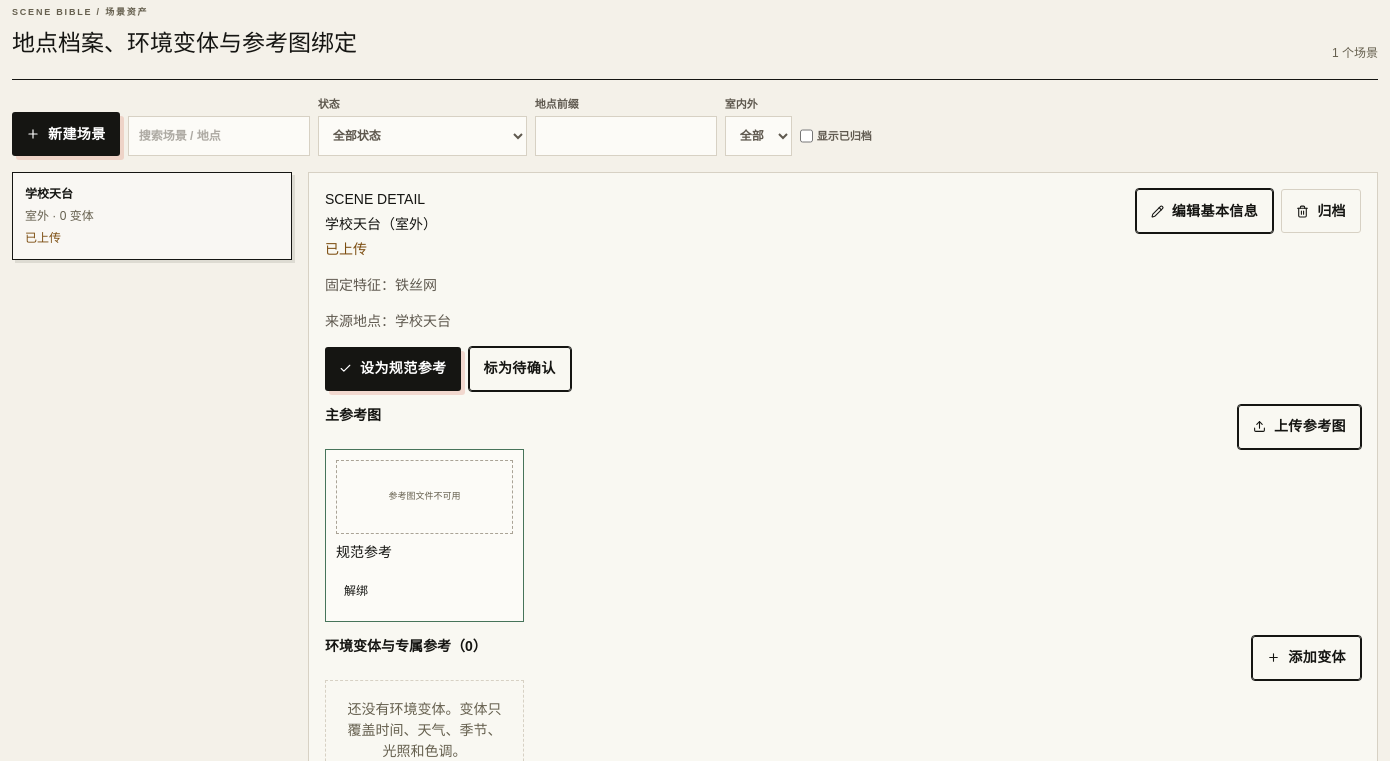
Scenario: SceneWorkspace › 409 乐观锁展示后端语义提示而不是静默覆盖（#156）
Click the button "设为规范参考" at (393, 369), box [325, 347, 460, 391]
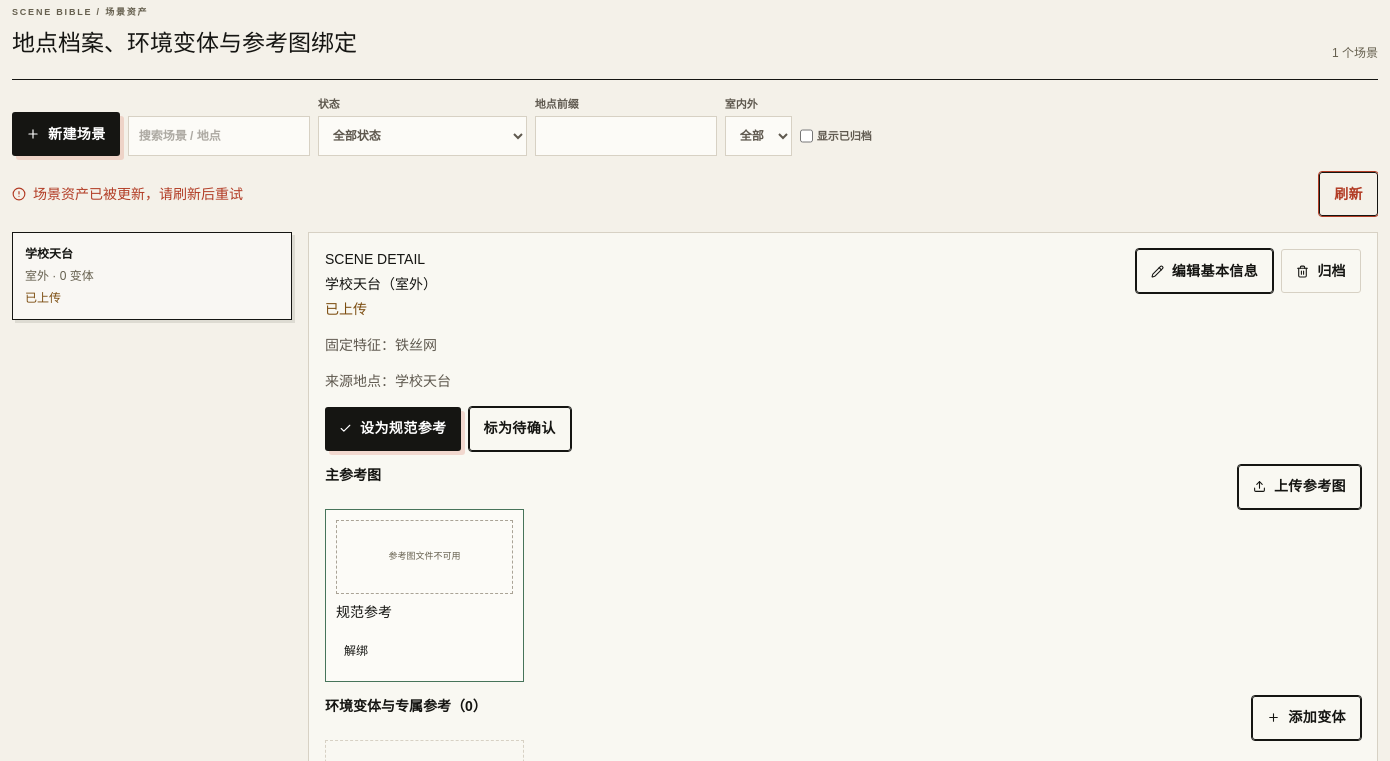
Now the text "场景资产已被更新，请刷新后重试" is shown, box [33, 186, 243, 202]
Now the button "刷新" is shown, box [1319, 172, 1378, 216]
